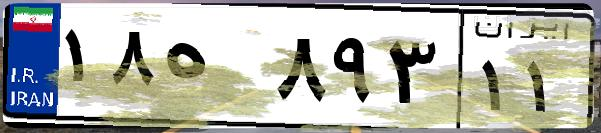1: (57, 26, 110, 100), (475, 38, 525, 113), (525, 38, 570, 115)
3: (385, 28, 445, 110)
8: (270, 28, 330, 110), (110, 28, 158, 98)
9: (330, 28, 385, 110)
ه: (158, 20, 270, 120)
